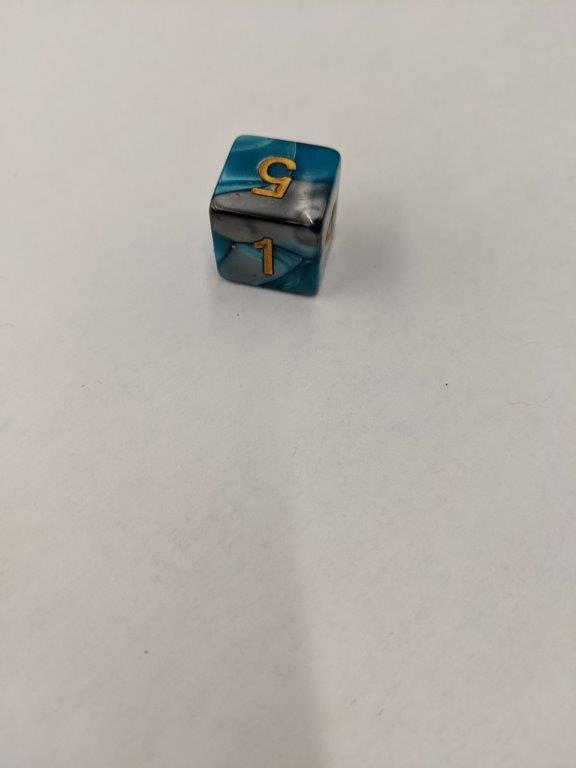d6-5: (210, 134, 341, 302)
